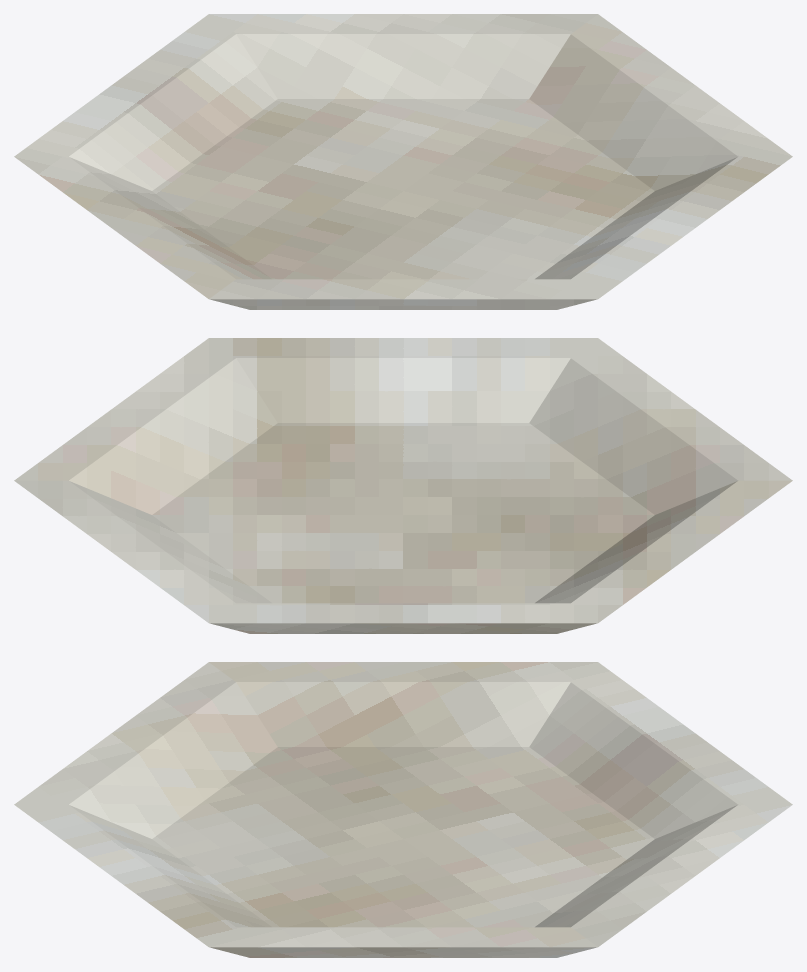
The model's file is plate.gltf.
3 views of the same model, one above another, from view 1: azimuth 30°, elevation 25°; view 2: azimuth 150°, elevation 25°; view 3: azimuth 270°, elevation 25° (orthographic).
Parts seen in each view (by area): view 1: Plate; view 2: Plate; view 3: Plate.
Part boxes in pixels (box(x1,y1,x2,y2)): Plate: box(14, 14, 792, 309); Plate: box(14, 338, 792, 633); Plate: box(14, 662, 792, 957).
Bounding box in the file's own units: 0.5448 × 0.036 × 0.6291.
Materials: 1 (1 with a texture image).
